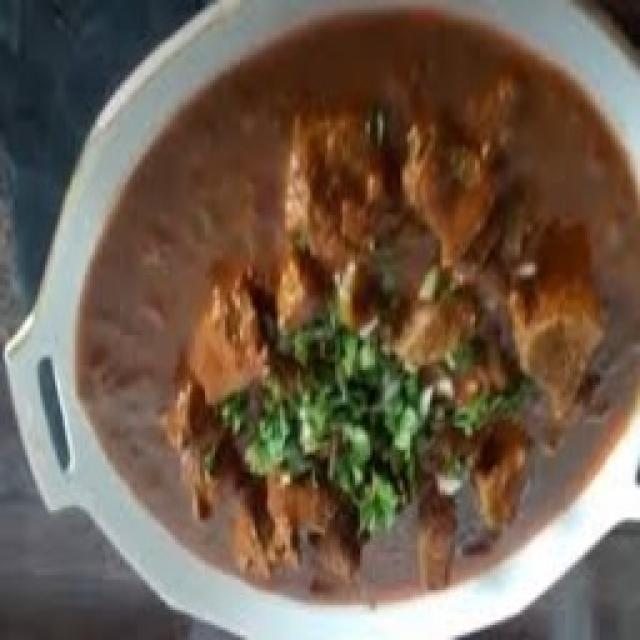Kamouniya: (5, 0, 640, 640)
